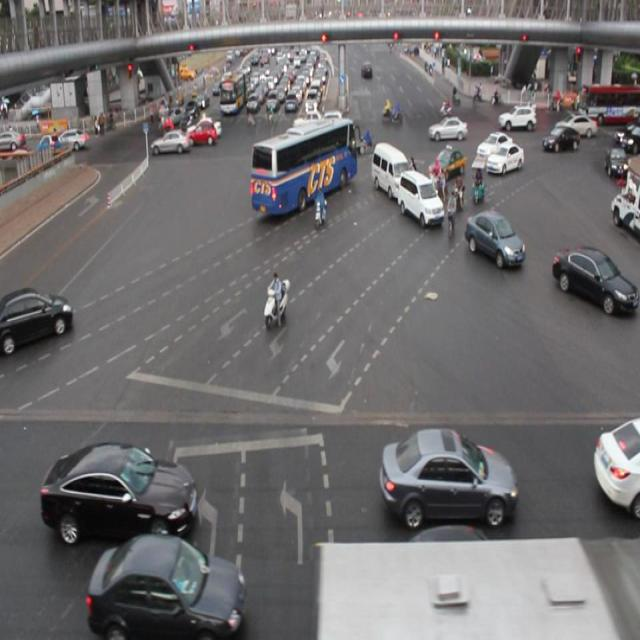car: (87, 531, 248, 640), (41, 437, 197, 543), (380, 421, 518, 527), (359, 520, 489, 623), (551, 237, 640, 318), (1, 278, 74, 356), (590, 407, 640, 508), (464, 209, 526, 267), (426, 146, 463, 178), (428, 113, 467, 142), (486, 144, 522, 174), (542, 127, 578, 154), (185, 118, 217, 146), (475, 131, 509, 157), (152, 130, 190, 153), (298, 122, 330, 140)
truck: (398, 170, 444, 225), (370, 140, 404, 198)
van: (312, 527, 640, 639), (248, 118, 358, 217)
